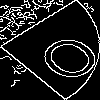O: (25, 25, 100, 85)
